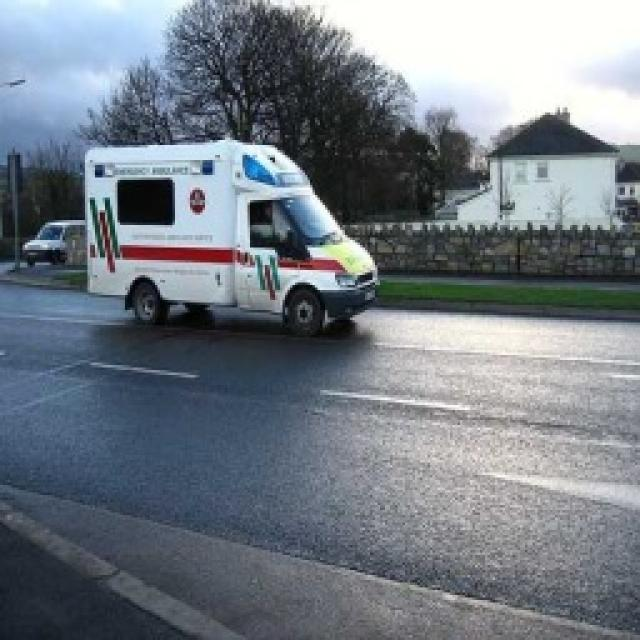emergency-vehicle: (79, 136, 382, 332)
